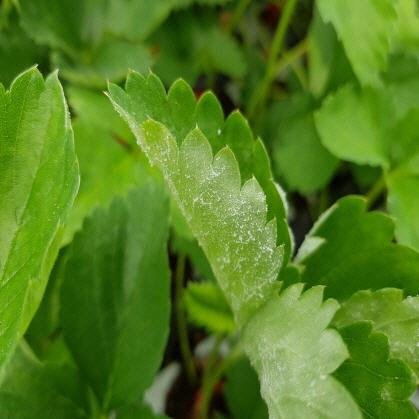Powdery Mildew Leaf: (100, 67, 301, 336), (239, 281, 418, 418), (290, 193, 418, 382)
